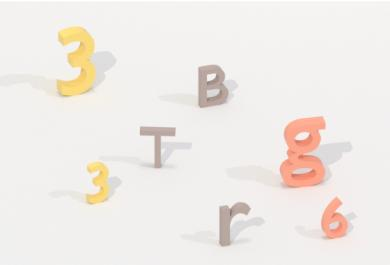3: (54, 20, 98, 100), (86, 159, 111, 208)
6: (316, 192, 352, 243)
B: (195, 62, 232, 113)
T: (135, 121, 181, 174)
g: (277, 111, 332, 192)
r: (214, 199, 254, 249)
